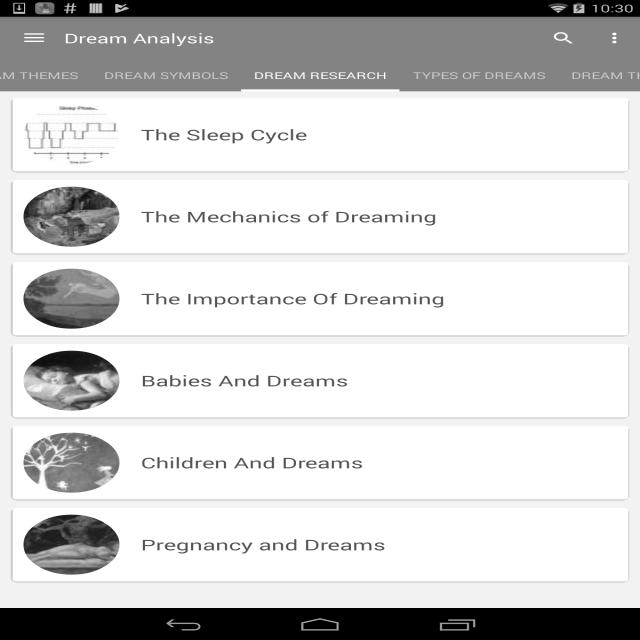ImageButton: (0, 19, 60, 57)
ImageView: (24, 104, 120, 164), (24, 186, 120, 246), (24, 268, 120, 328), (24, 350, 120, 410), (24, 432, 120, 492), (24, 514, 120, 574), (589, 22, 640, 54)
TextView: (141, 289, 445, 308), (141, 207, 437, 226), (141, 535, 386, 554), (141, 453, 364, 472), (141, 371, 348, 390), (141, 125, 307, 144), (64, 29, 214, 47), (412, 69, 546, 82), (254, 69, 387, 82), (104, 69, 228, 82), (538, 22, 588, 54), (0, 69, 78, 81), (571, 69, 640, 82)
